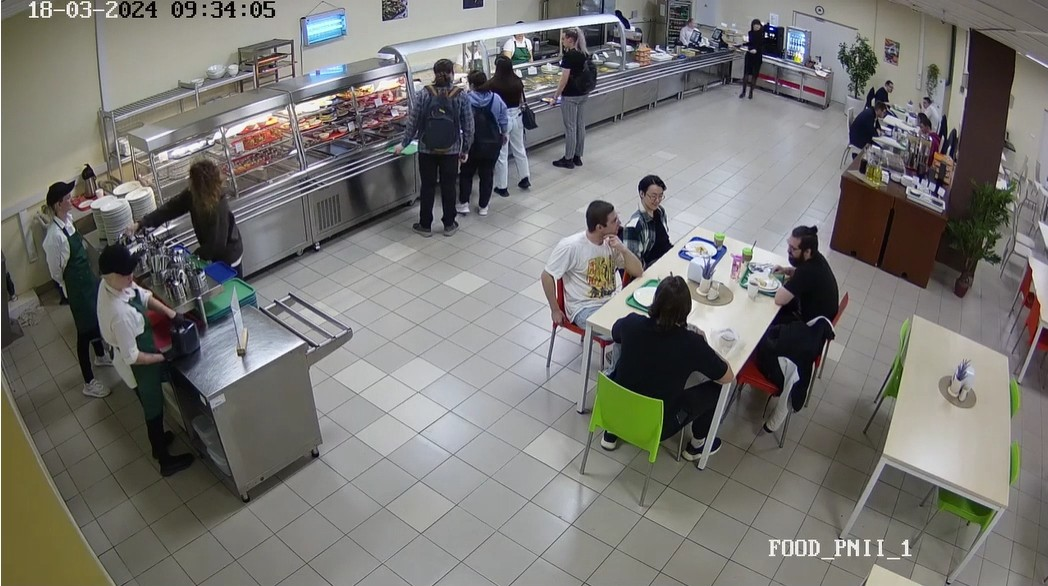Na_Kasse: (733, 16, 775, 103)
Personal: (91, 232, 176, 488), (31, 174, 112, 402), (501, 13, 536, 59), (607, 6, 637, 47), (463, 27, 490, 70), (675, 14, 706, 47)
Vybiraet: (124, 163, 251, 278), (401, 52, 466, 233), (486, 55, 540, 198), (454, 65, 500, 223), (551, 27, 597, 173)
Za_Stolom: (597, 275, 733, 505), (537, 202, 647, 380), (768, 219, 835, 320), (636, 176, 668, 258), (854, 94, 887, 154), (904, 112, 944, 160), (871, 74, 897, 108), (915, 97, 943, 123)
